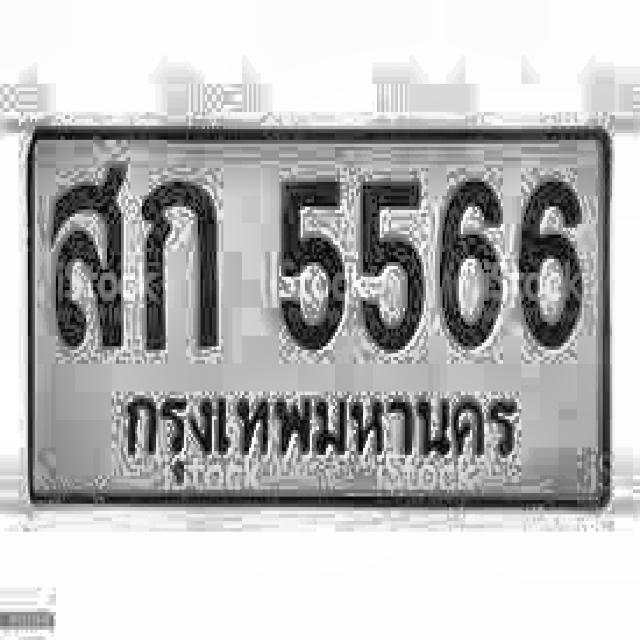license-plate: (25, 119, 615, 514)
